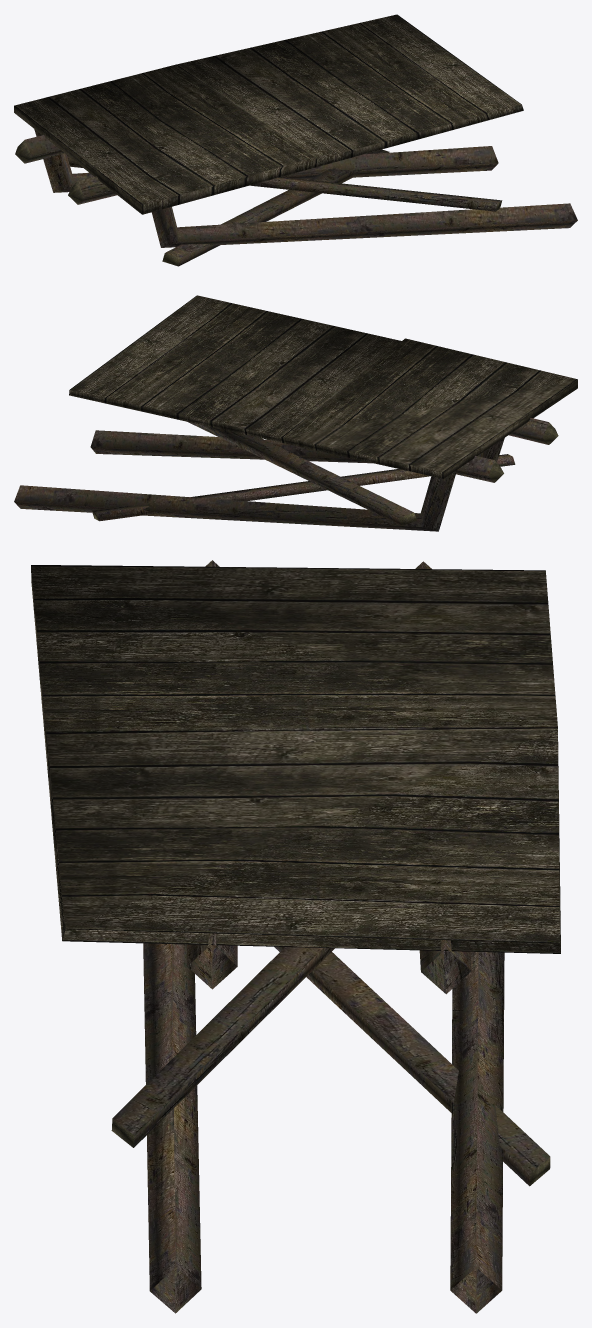
The model's file is MIN_LOB_BRIDGE_4X4M.glb.
The picture shows the model from 3 angles, top to bottom: view 1: azimuth 30°, elevation 25°; view 2: azimuth 150°, elevation 25°; view 3: azimuth 270°, elevation 25°; orthographic projection. The views are drawn at different scales.
Parts seen in each view (by area): view 1: Mesh; view 2: Mesh; view 3: Mesh.
Boxes of the visible parts, <box> form: Mesh: <box>14,14,577,266</box>; Mesh: <box>14,295,577,531</box>; Mesh: <box>31,560,560,1313</box>.
Size of the model in its own units: 9.67 by 3.11 by 4.69.
Materials: 3 (3 with a texture image).
